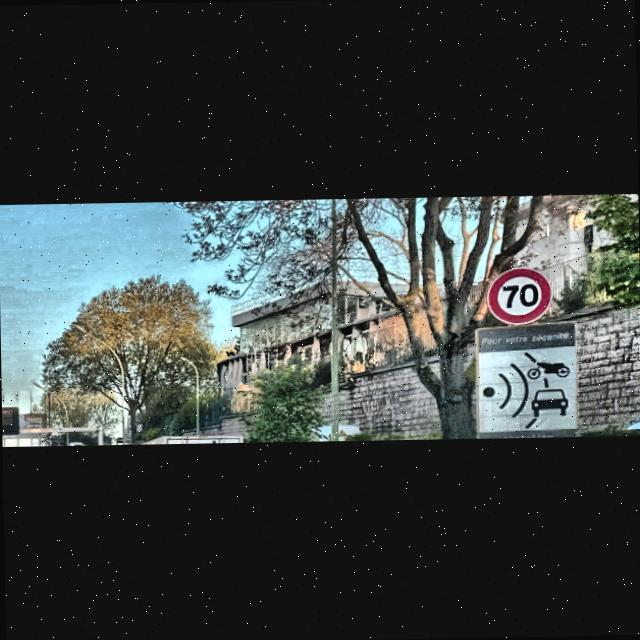speed_70: (486, 268, 553, 326)
